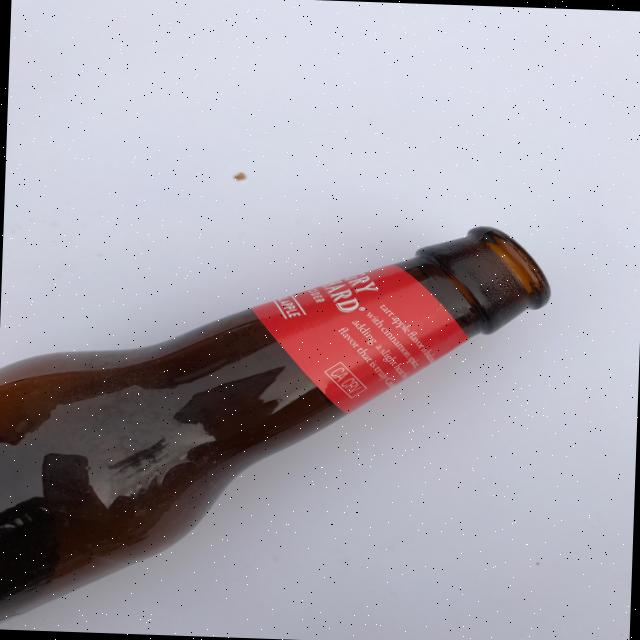glass: (0, 207, 553, 640)
